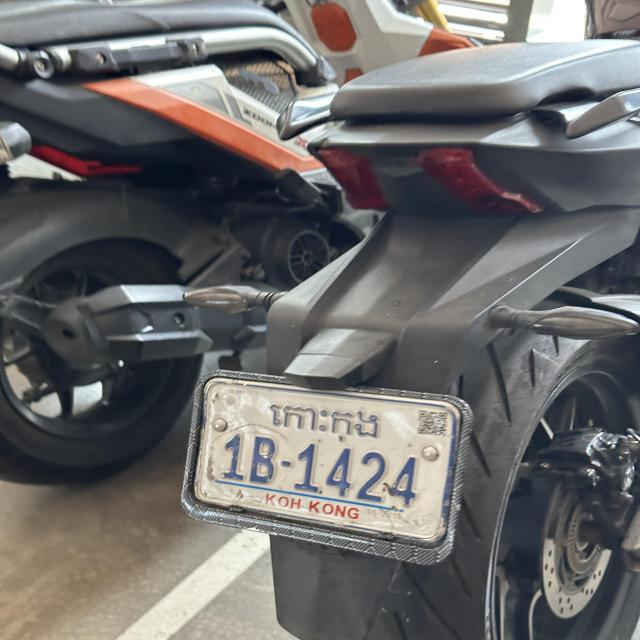Koh_Kong: (263, 398, 391, 446)
